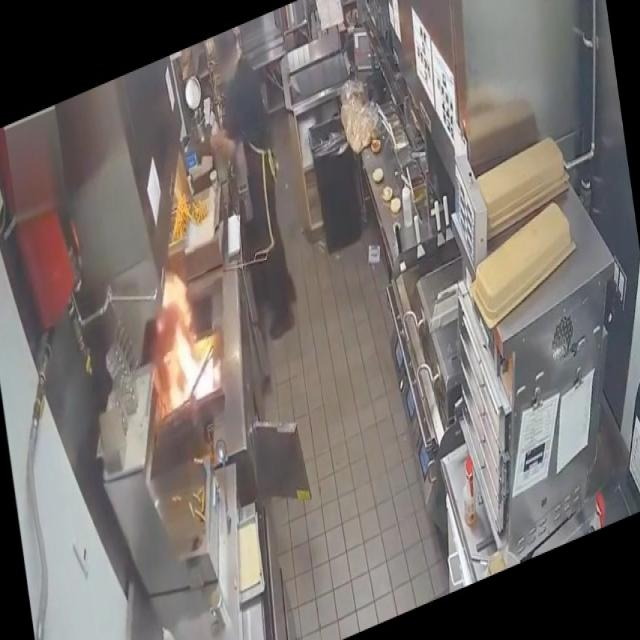fire: (134, 254, 232, 443)
